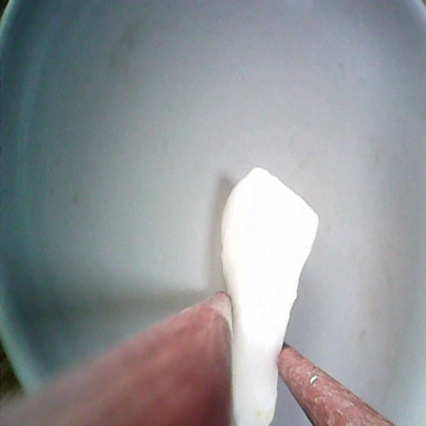white_chinese-yam: (220, 166, 325, 426)
